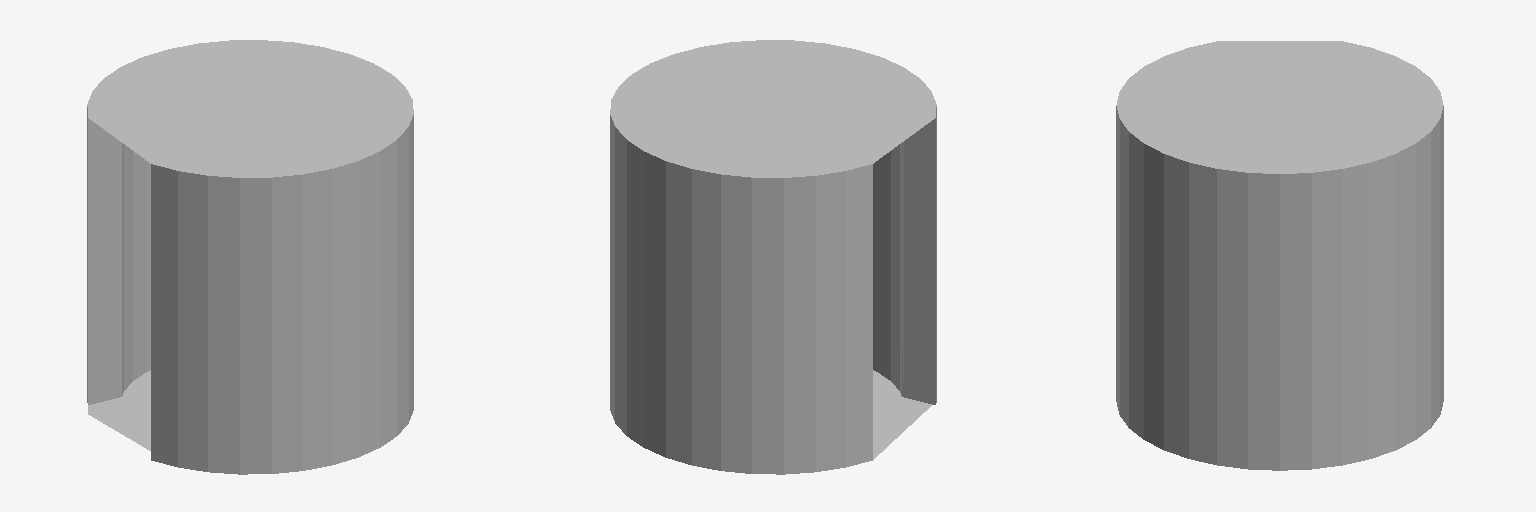
File: platform2.obj
The picture shows the model from 3 angles: view 1: azimuth 30°, elevation 25°; view 2: azimuth 150°, elevation 25°; view 3: azimuth 270°, elevation 25°; orthographic projection.
Parts seen in each view (by area): view 1: Cylinder; view 2: Cylinder; view 3: Cylinder.
Part boxes in pixels (x1,y1,x2,y2): Cylinder: (87, 40, 413, 474); Cylinder: (610, 40, 936, 474); Cylinder: (1116, 41, 1443, 470).
Size of the model in its own units: 1.92 by 2 by 2.